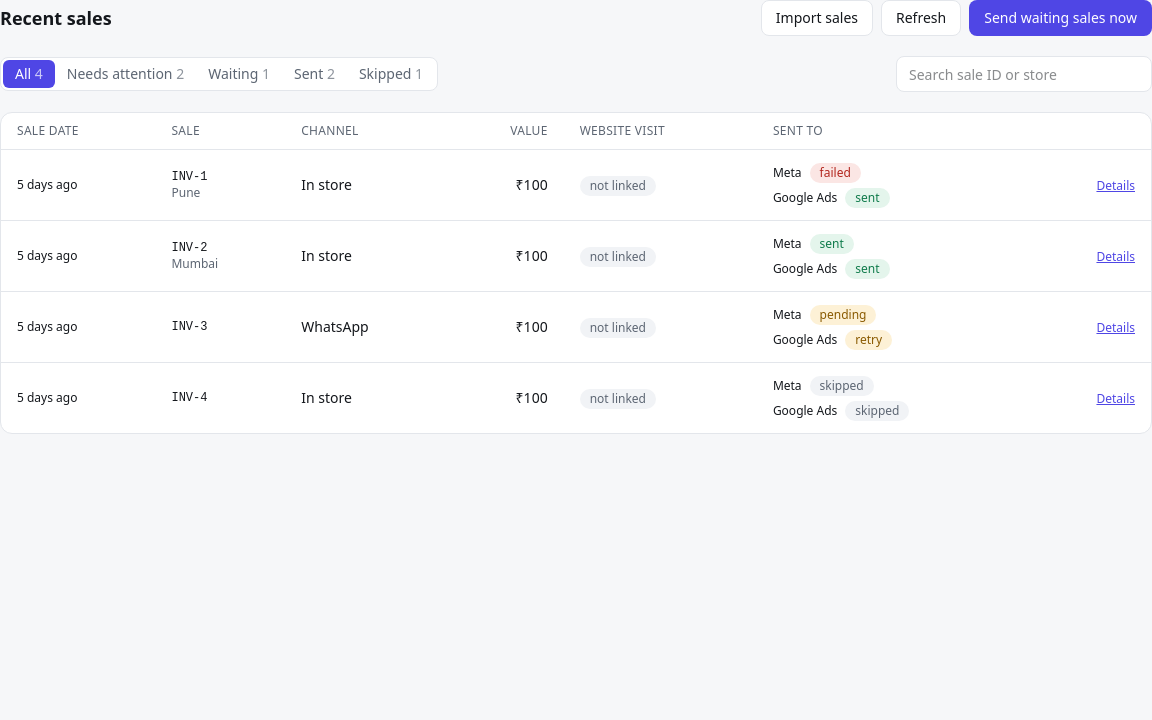
Scenario: Sales: details, preview and resend › shows each platform with the reason, and a waiting delivery says to connect the account
Expected: the text "INV-3" is shown, [172,320,208,334]
Click the button "Details" in the row of "INV-3" at (1116, 328), box [1096,320,1135,336]
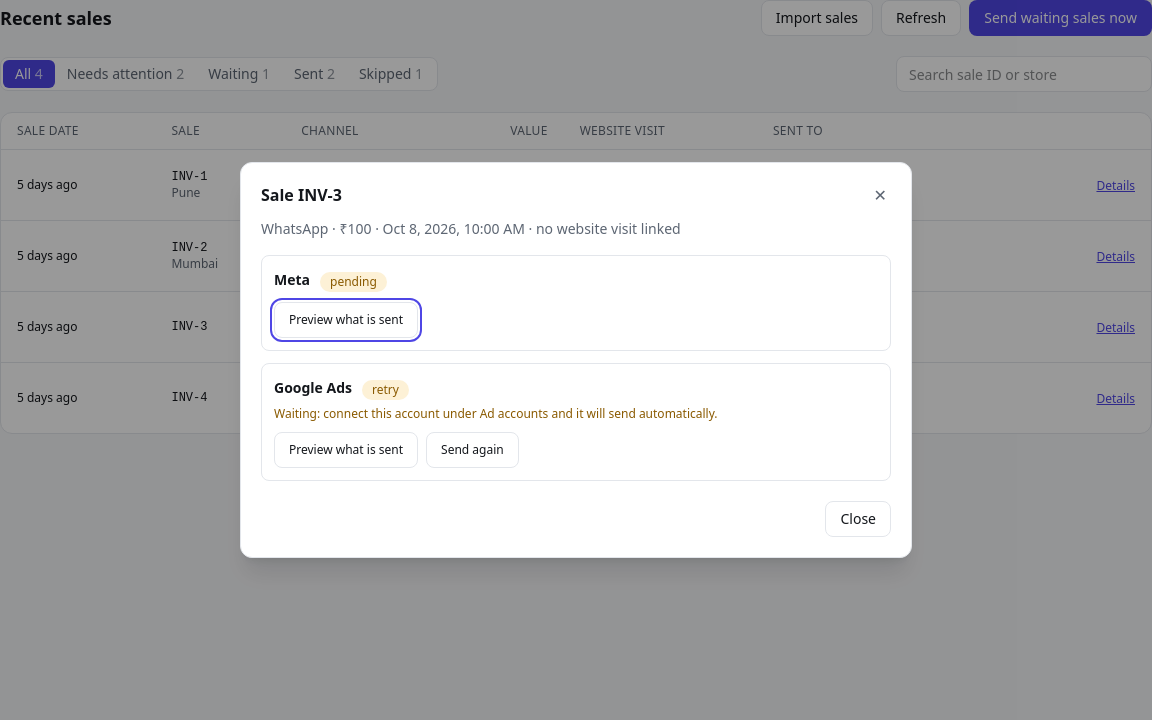
Expected: the text "Waiting: connect this account under Ad accounts" is shown, [274,405,718,422]
Expected: the number of buttons "Preview what is sent" is 2, [274,302,418,338]; [274,432,418,468]
